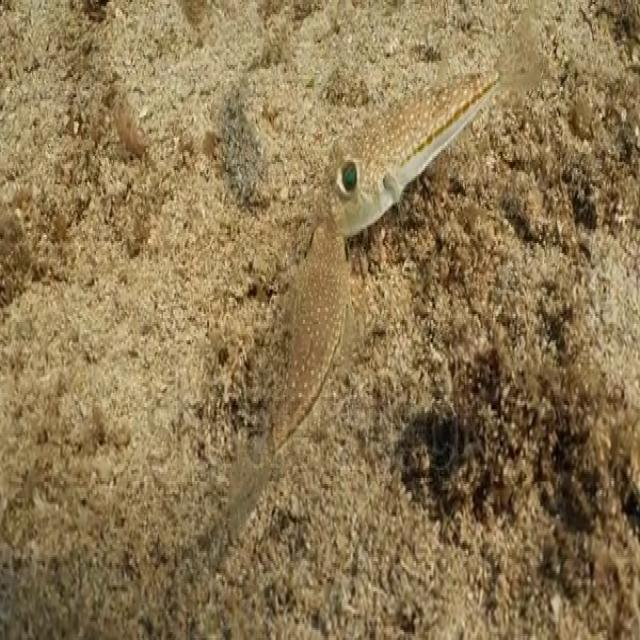Balon Baligi: (324, 13, 534, 225), (241, 216, 365, 549)
